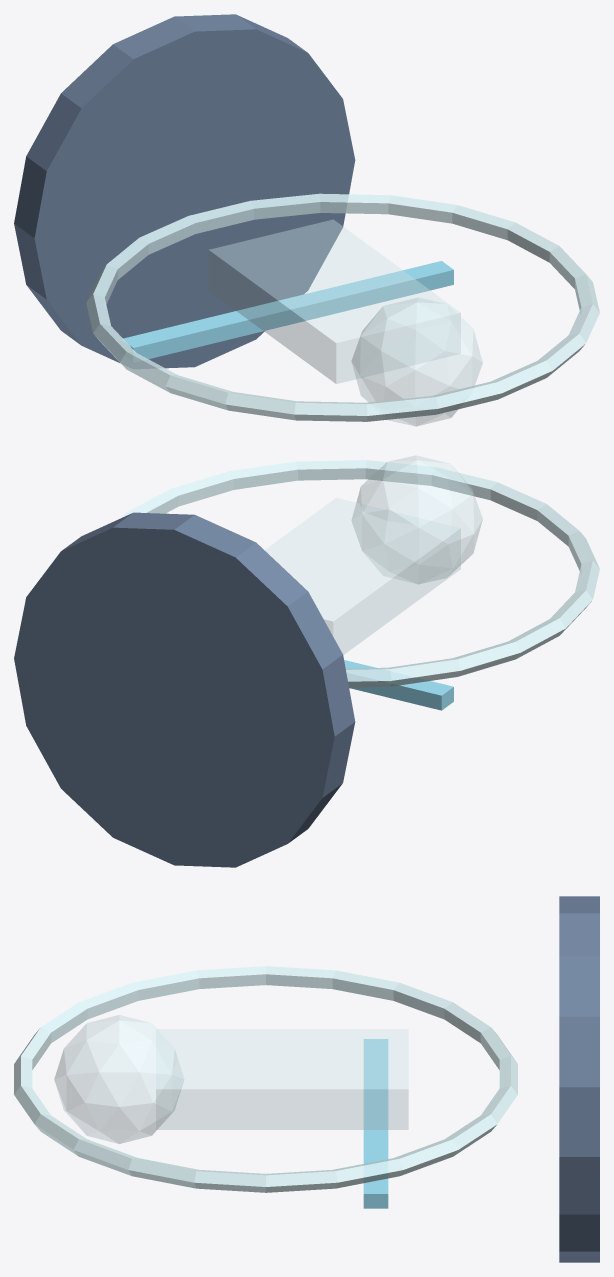
Rendered from 07_support_npc_aura.glb.
3 views of the same model, one above another, from view 1: azimuth 30°, elevation 25°; view 2: azimuth 150°, elevation 25°; view 3: azimuth 270°, elevation 25° (orthographic).
Visible parts, largest first — view 1: npc_support_base, support_holo_body, ally_command_ring, support_holo_head, assist_beam_marker; view 2: npc_support_base, support_holo_body, ally_command_ring, support_holo_head, assist_beam_marker; view 3: support_holo_body, ally_command_ring, npc_support_base, support_holo_head, assist_beam_marker.
Part boxes in pixels (x1,y1,x2,y2): npc_support_base: (14,14,355,368); support_holo_body: (209,219,460,383); ally_command_ring: (86,193,599,421); support_holo_head: (351,297,482,426); assist_beam_marker: (121,261,453,362); npc_support_base: (14,512,355,867); support_holo_body: (265,498,460,654); ally_command_ring: (121,460,599,687); support_holo_head: (352,455,482,583); assist_beam_marker: (344,660,453,710); support_holo_body: (156,1029,408,1129); ally_command_ring: (14,966,517,1192); npc_support_base: (559,896,599,1262); support_holo_head: (54,1015,183,1143); assist_beam_marker: (363,1039,388,1208).
Bounding box in the file's own units: 1.25 × 0.9 × 1.44.
